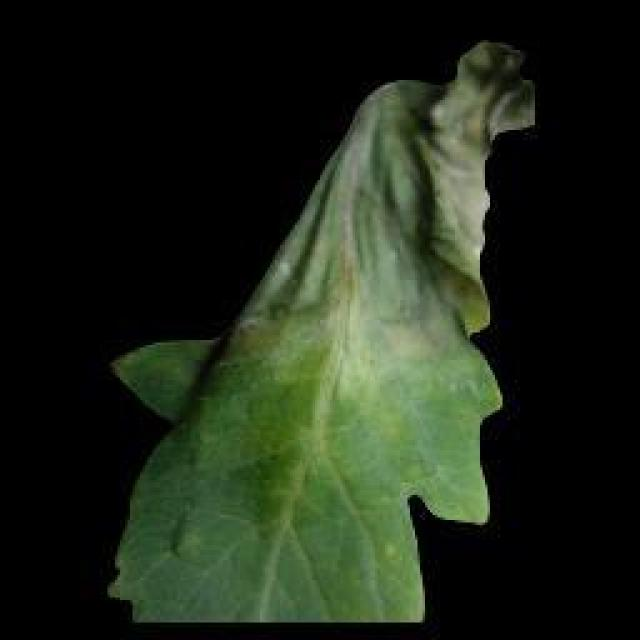Tomato Late Blight: (228, 53, 552, 362)
